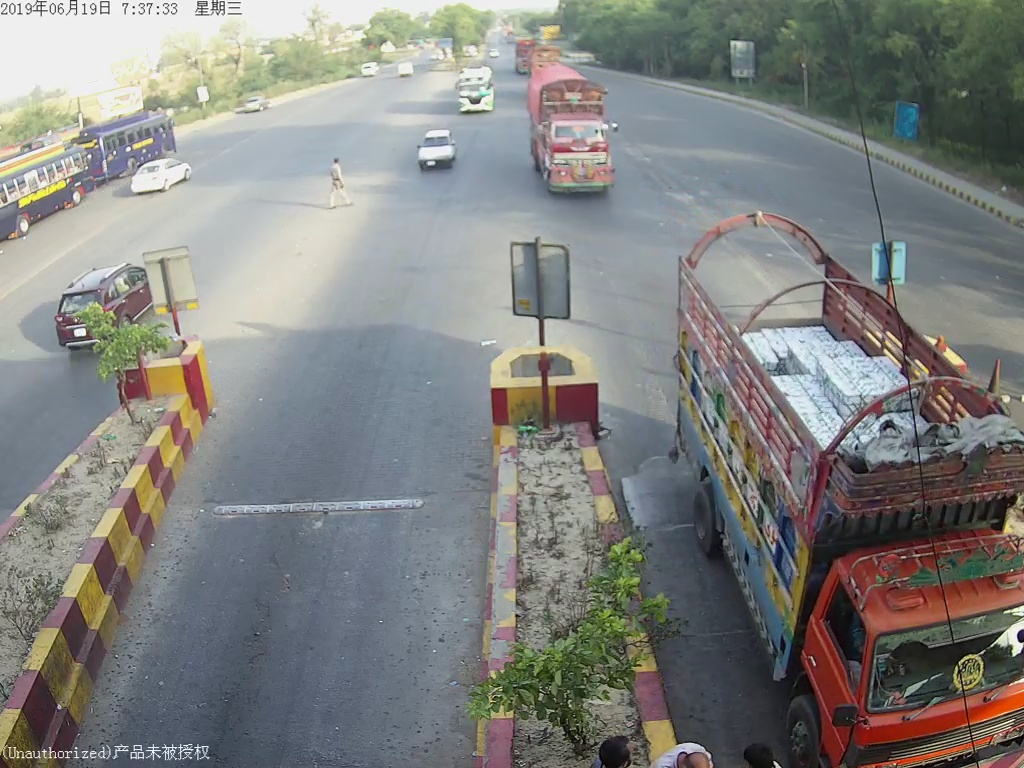Cat-1: (414, 129, 460, 175)
Cat-3: (453, 59, 497, 118)
Cat-4: (694, 227, 1023, 768), (528, 63, 623, 196)
